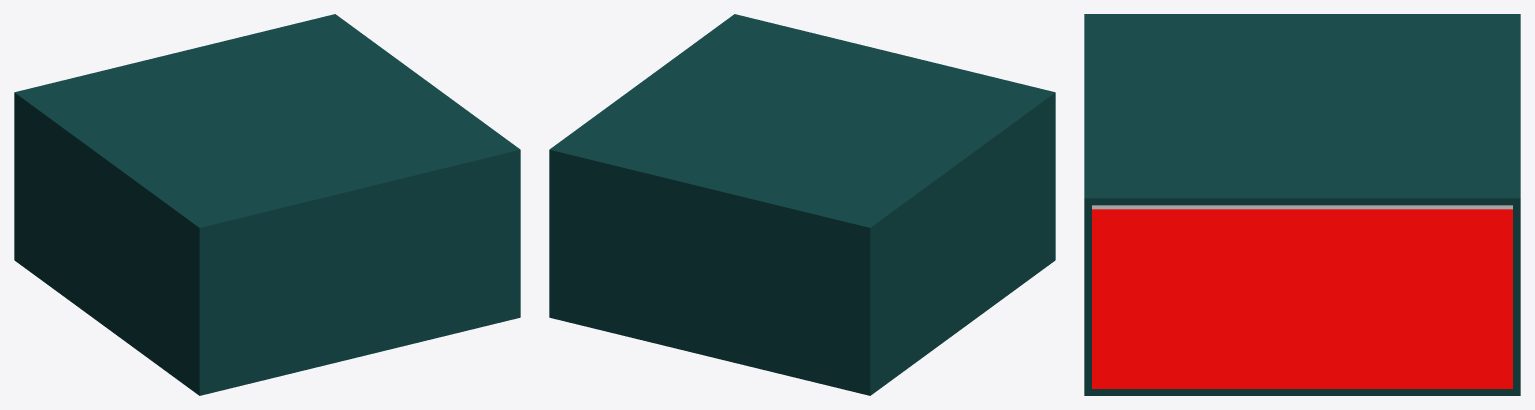
The picture shows the model from 3 angles, left to right: view 1: azimuth 30°, elevation 25°; view 2: azimuth 150°, elevation 25°; view 3: azimuth 270°, elevation 25°; orthographic projection. The views are drawn at different scales.
Visible parts, largest first — view 1: normal1; view 2: normal1; view 3: normal1.
Boxes of the visible parts, x1,y1,x2,y2 form: normal1: (14, 14, 520, 395); normal1: (549, 14, 1055, 395); normal1: (1084, 14, 1520, 395).
Size of the model in its own units: 400 by 200 by 400.
